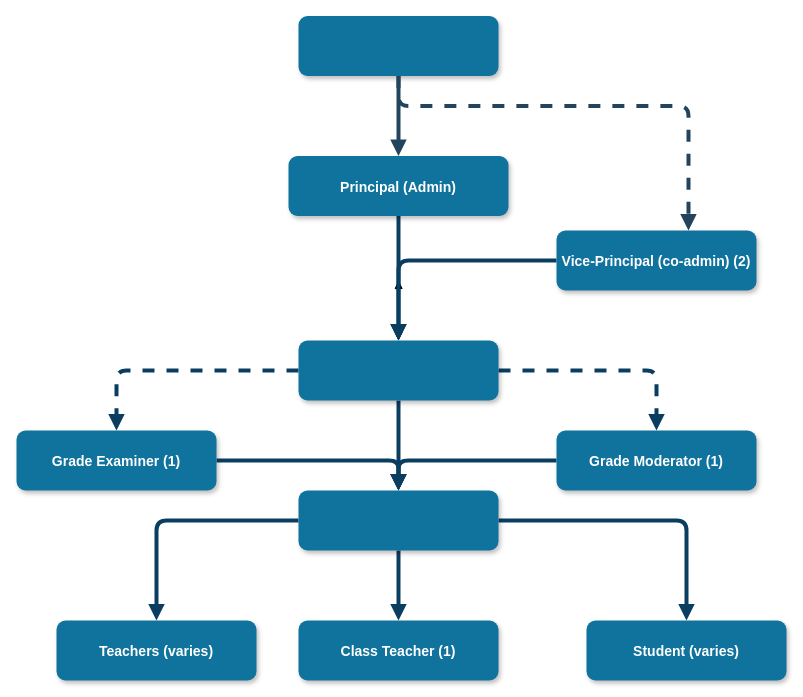
This 803x697 diagram has some shape labels left out. The centre of each missing label's shape, as x and y in pixels:
"Grades (1-12)" goes at point 399,371.
"School" goes at point 399,47.
"Sections (varies)" goes at point 399,521.
